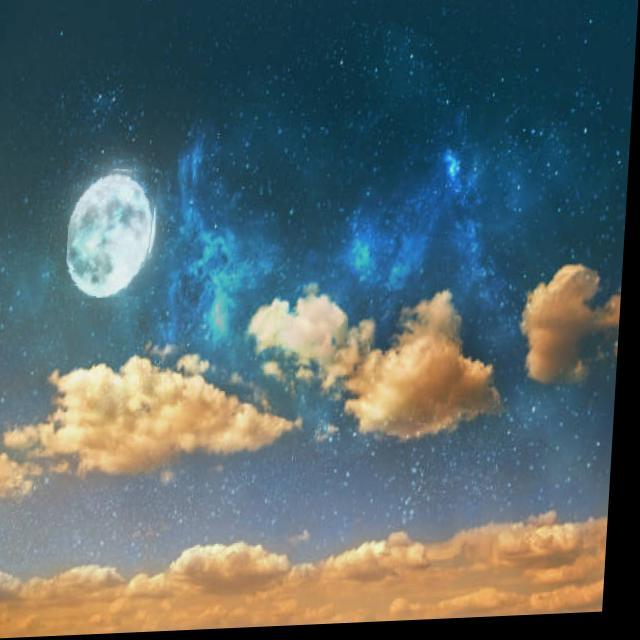moon: (68, 165, 162, 300)
